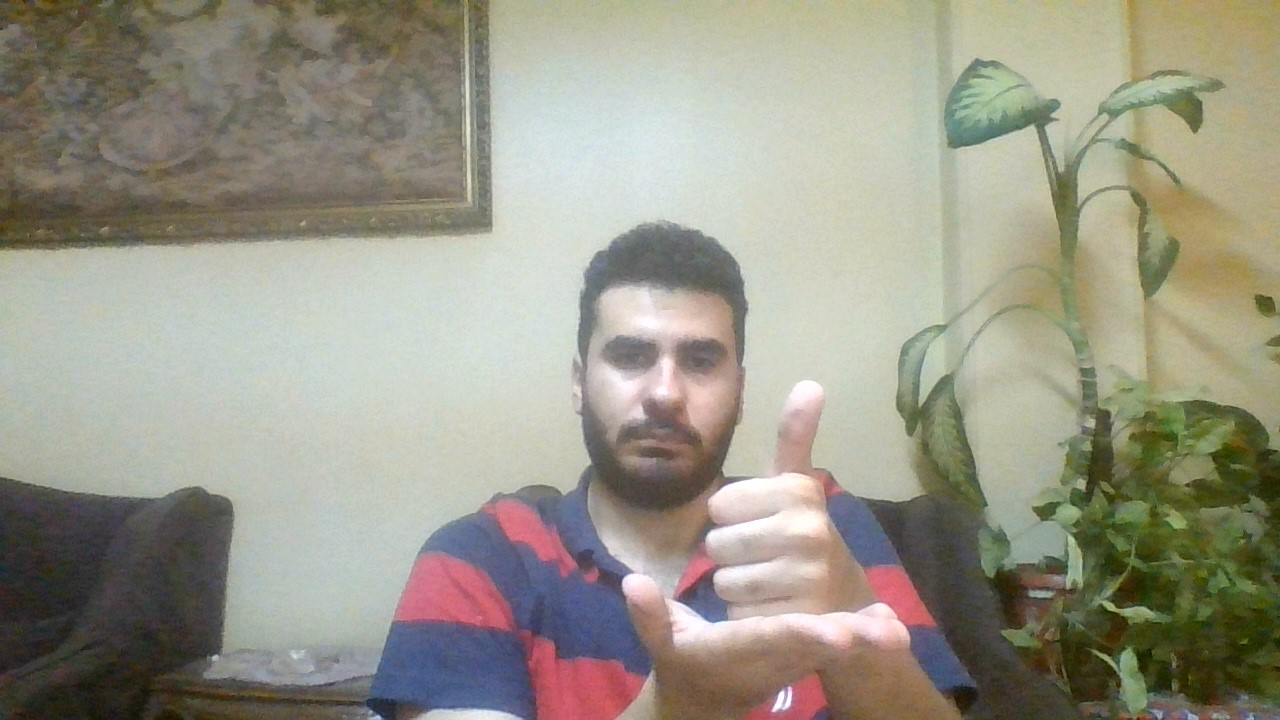help: (627, 362, 903, 692)
